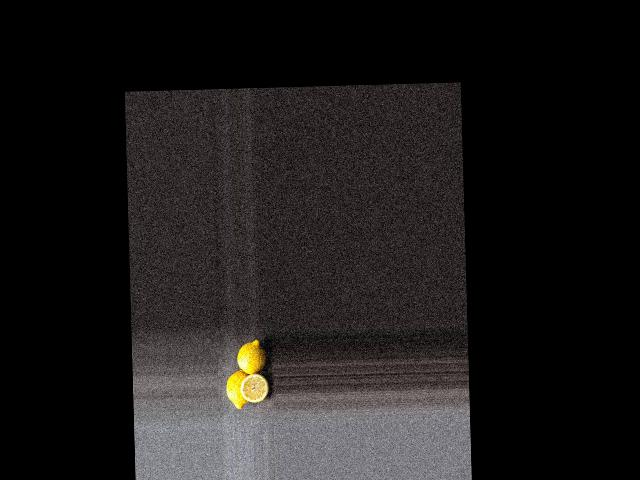lemon: (222, 369, 251, 411)
